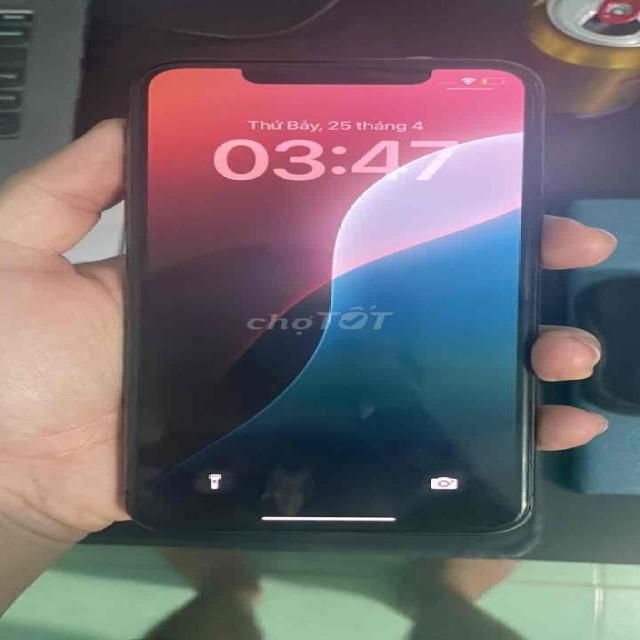gen_11: (93, 38, 545, 545)
